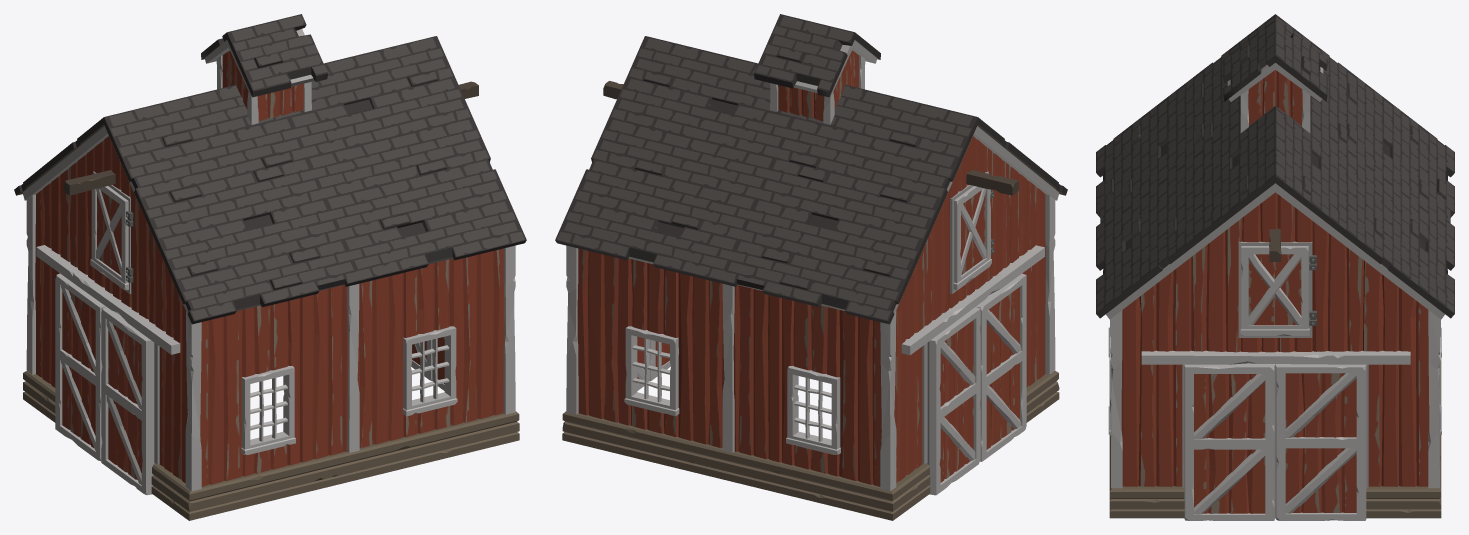
Rendered from SM_Bld_Barn_03_textured.fbx.
3 views of the same model, side by side, from view 1: azimuth 30°, elevation 25°; view 2: azimuth 150°, elevation 25°; view 3: azimuth 270°, elevation 25° (orthographic).
Visible parts, largest first — view 1: SM_Bld_Barn_03; view 2: SM_Bld_Barn_03; view 3: SM_Bld_Barn_03.
Part boxes in pixels (bbox=[...]): SM_Bld_Barn_03: bbox=[14, 14, 526, 520]; SM_Bld_Barn_03: bbox=[555, 14, 1067, 520]; SM_Bld_Barn_03: bbox=[1096, 14, 1454, 520].
Bounding box in the file's own units: 977 × 911 × 744.
1 material, 1 textured.
